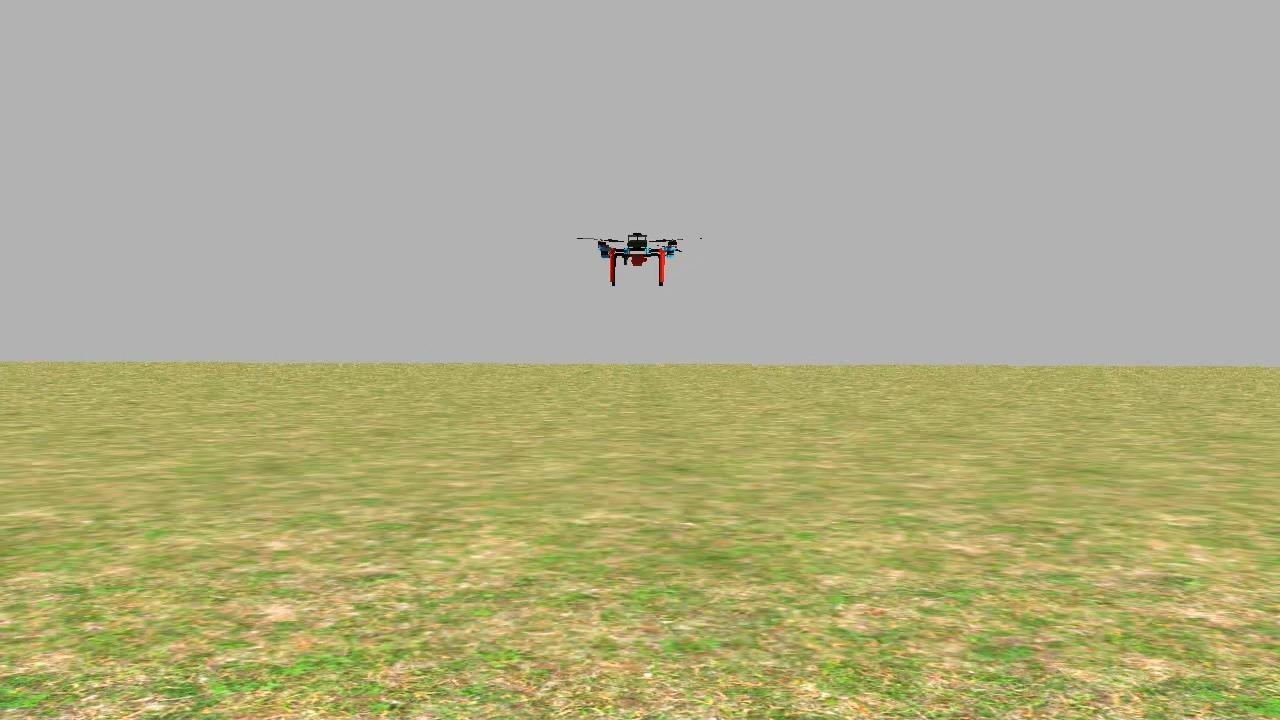UAV: (584, 220, 694, 292)
